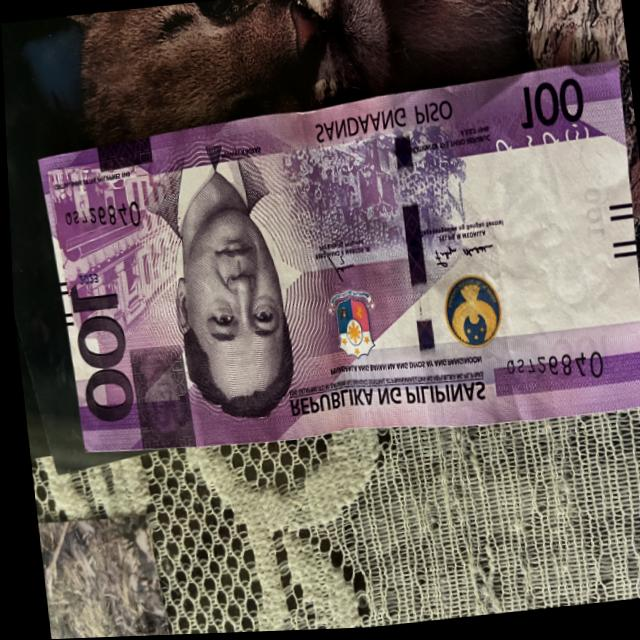concealed_value: (123, 343, 190, 451)
security_thread: (385, 102, 439, 430)
see_through_mark: (479, 119, 590, 182)
serial_number: (493, 351, 601, 399), (55, 194, 142, 241)
value: (59, 279, 133, 432)
value_watermark: (572, 176, 605, 245)
watermark: (472, 143, 616, 349)
